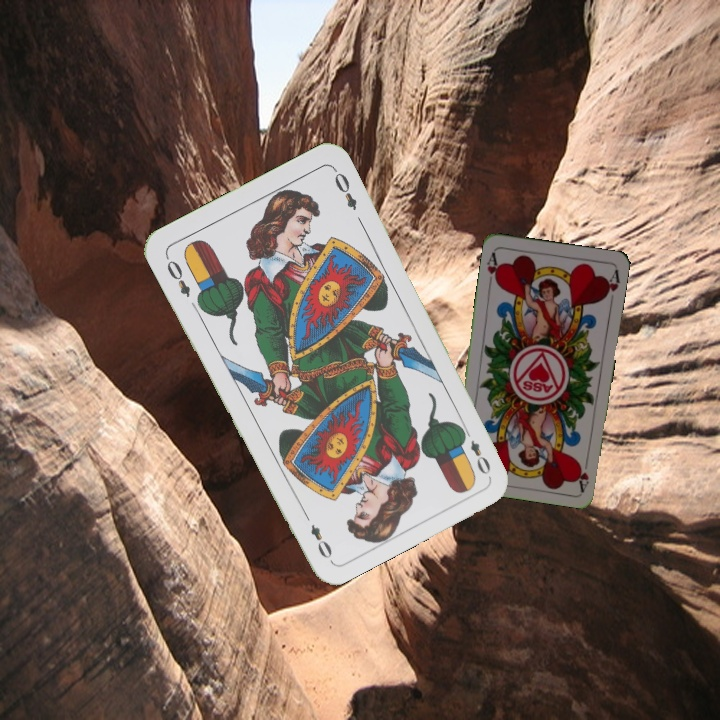EO: (458, 423, 493, 478), (161, 252, 193, 300)
HA: (483, 248, 503, 288), (573, 452, 592, 493)
